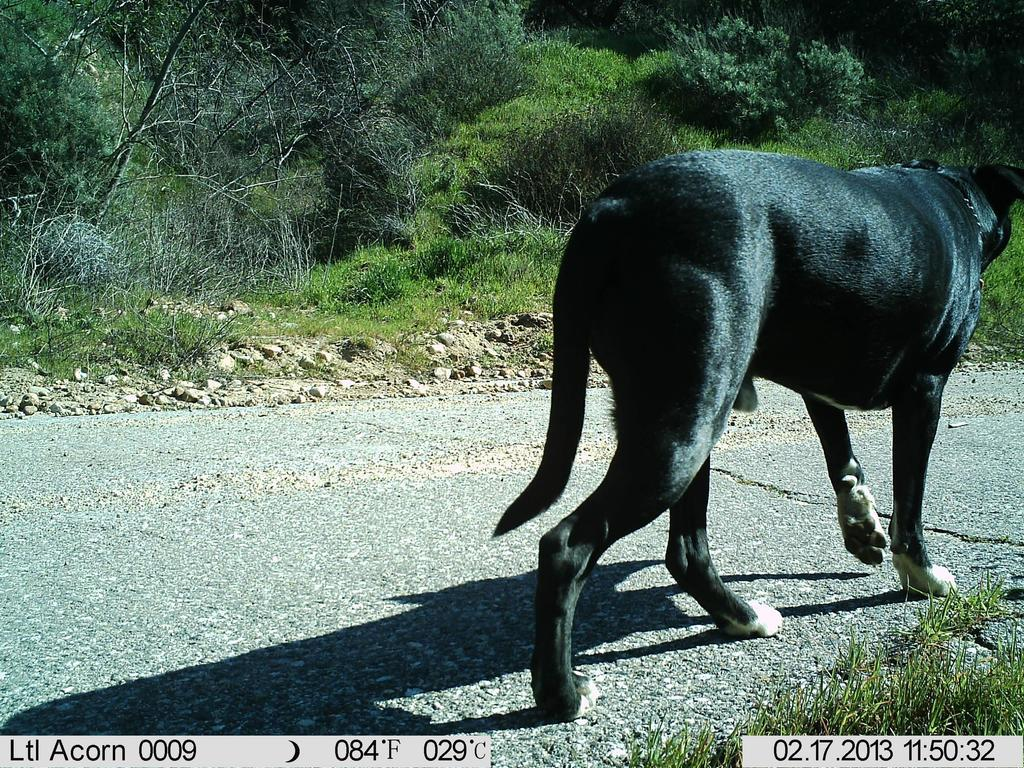dog: (492, 148, 1022, 720)
